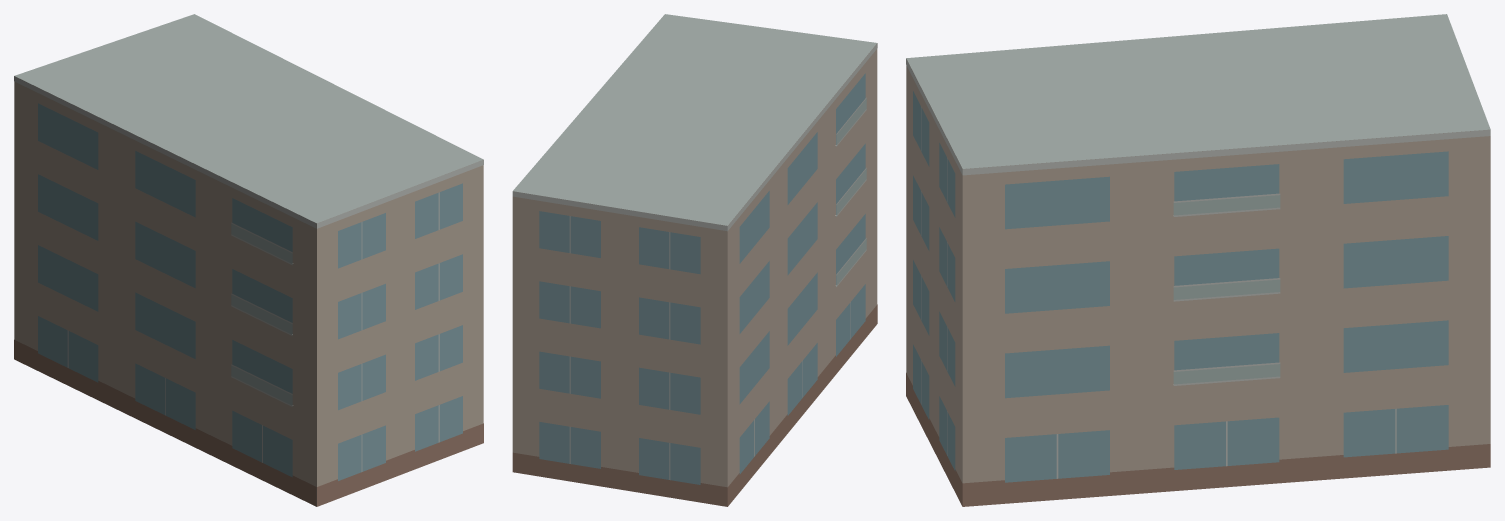
The model's file is survey-upis-32701809.glb.
3 views of the same model, side by side, from view 1: azimuth 30°, elevation 25°; view 2: azimuth 150°, elevation 25°; view 3: azimuth 270°, elevation 25° (orthographic). The views are drawn at different scales.
Visible parts, largest first — view 1: survey-upis-32701809.tmp; view 2: survey-upis-32701809.tmp; view 3: survey-upis-32701809.tmp.
Boxes of the visible parts, x1,y1,x2,y2 form: survey-upis-32701809.tmp: (14,14,483,506); survey-upis-32701809.tmp: (512,14,877,506); survey-upis-32701809.tmp: (906,14,1490,506).
Size of the model in its own units: 12.6 by 12.8 by 20.08.
